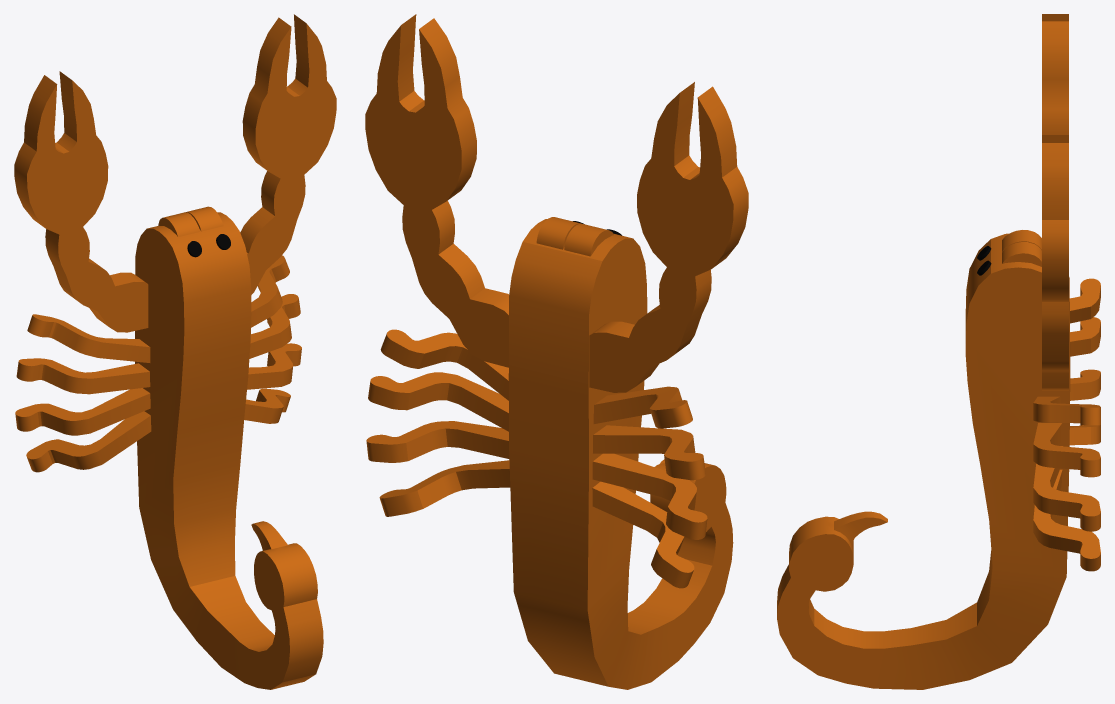
The model's file is scorpion.fbx.
3 renders of one model, left to right at view 1: azimuth 30°, elevation 25°; view 2: azimuth 150°, elevation 25°; view 3: azimuth 270°, elevation 25°, orthographic. The views are drawn at different scales.
Parts seen in each view (by area): view 1: Plane.176, Plane.174, Cube.157; view 2: Plane.176, Plane.174, Cube.157; view 3: Plane.176, Cube.157, Plane.174.
Boxes of the visible parts, x1,y1,x2,y2 form: Plane.176: [135, 212, 323, 689]; Plane.174: [14, 14, 336, 332]; Cube.157: [15, 206, 301, 472]; Plane.176: [508, 219, 733, 689]; Plane.174: [365, 14, 748, 392]; Cube.157: [366, 217, 707, 588]; Plane.176: [777, 233, 1070, 689]; Cube.157: [1002, 230, 1100, 571]; Plane.174: [1042, 14, 1068, 390].
Size of the model in its own units: 123 by 215 by 105.
1 material, 1 textured.
